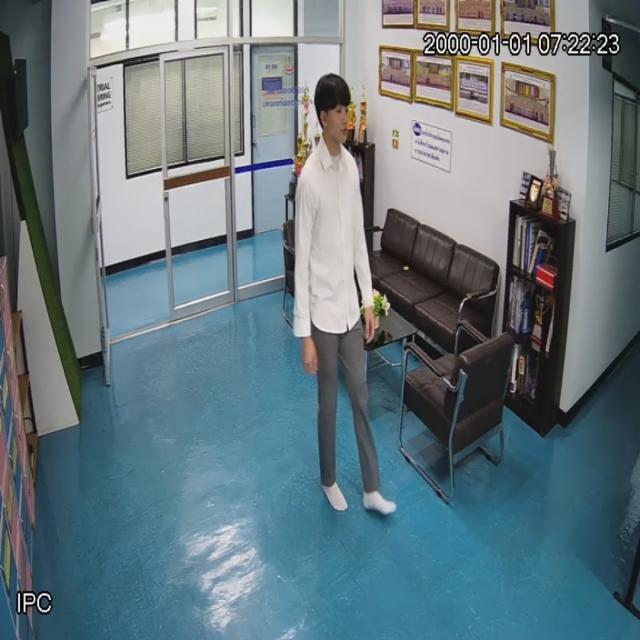normal: (293, 66, 396, 535)
